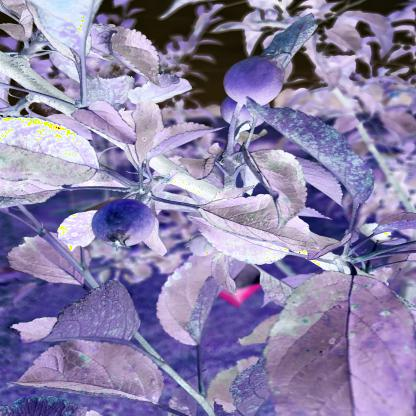Apple Scab Leaf: (257, 262, 416, 415), (239, 93, 385, 214), (27, 271, 158, 356), (0, 112, 106, 192), (258, 14, 324, 70)
